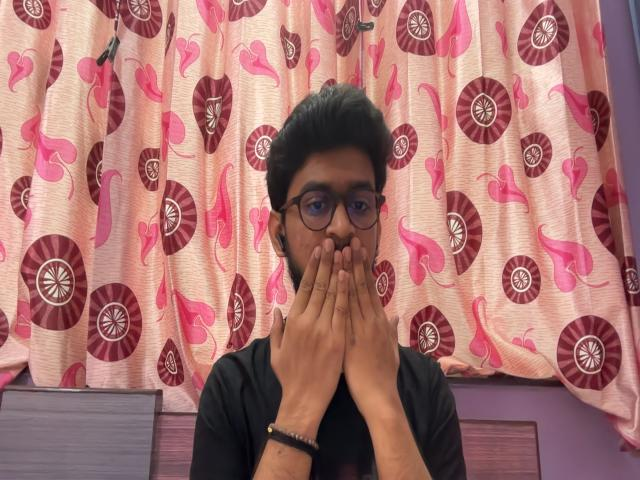Thanks: (267, 235, 408, 410)
